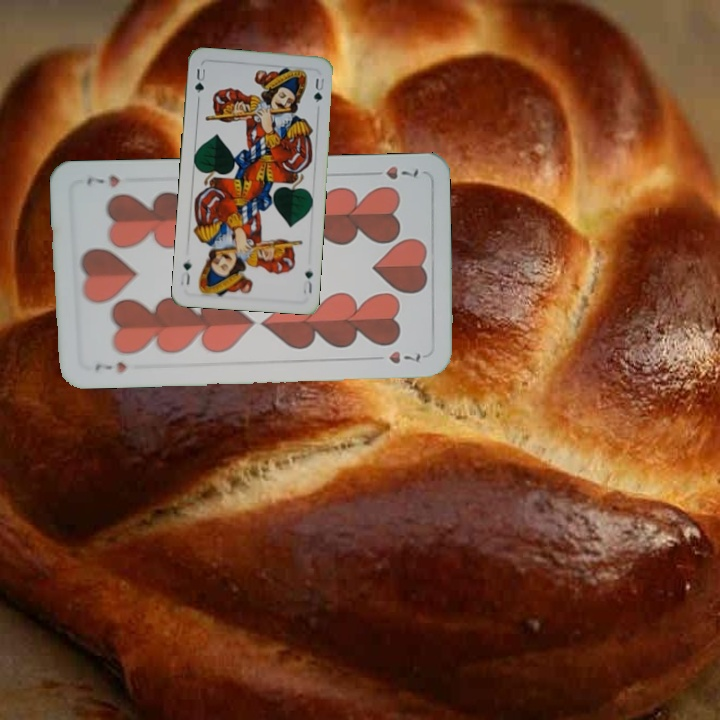GU: (191, 65, 208, 96), (299, 266, 315, 296)
H7: (364, 162, 421, 182), (91, 357, 130, 375)
